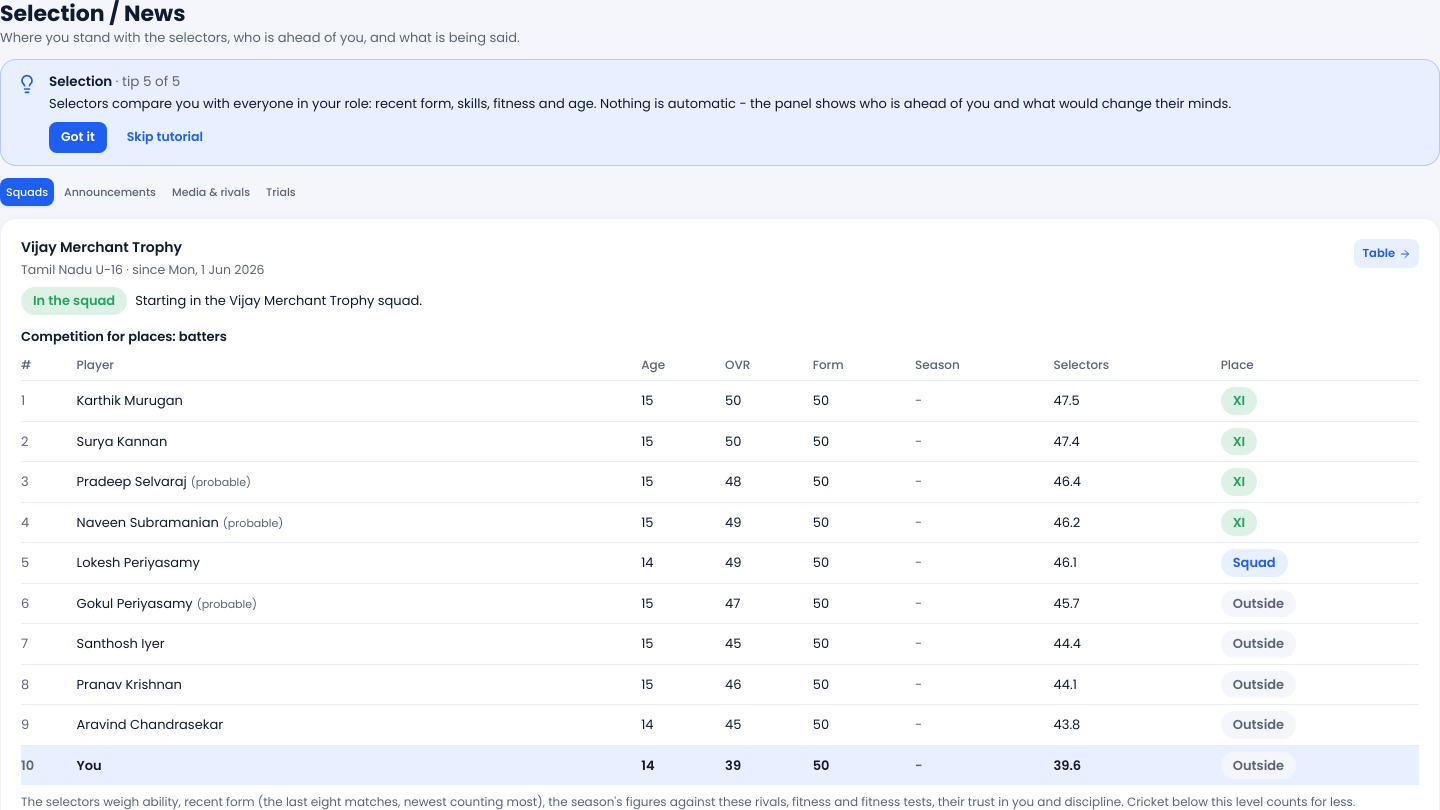
it: Phase 6 screens › Selection / News shows the competition for places with the player in it
Expected: the heading "Competition for places: batters" is shown, [21,327,227,346]
Expected: the text "You" is shown, [76,745,641,785]
Click the tab "Announcements". click: x=110, y=192
box: [58,178,162,206]
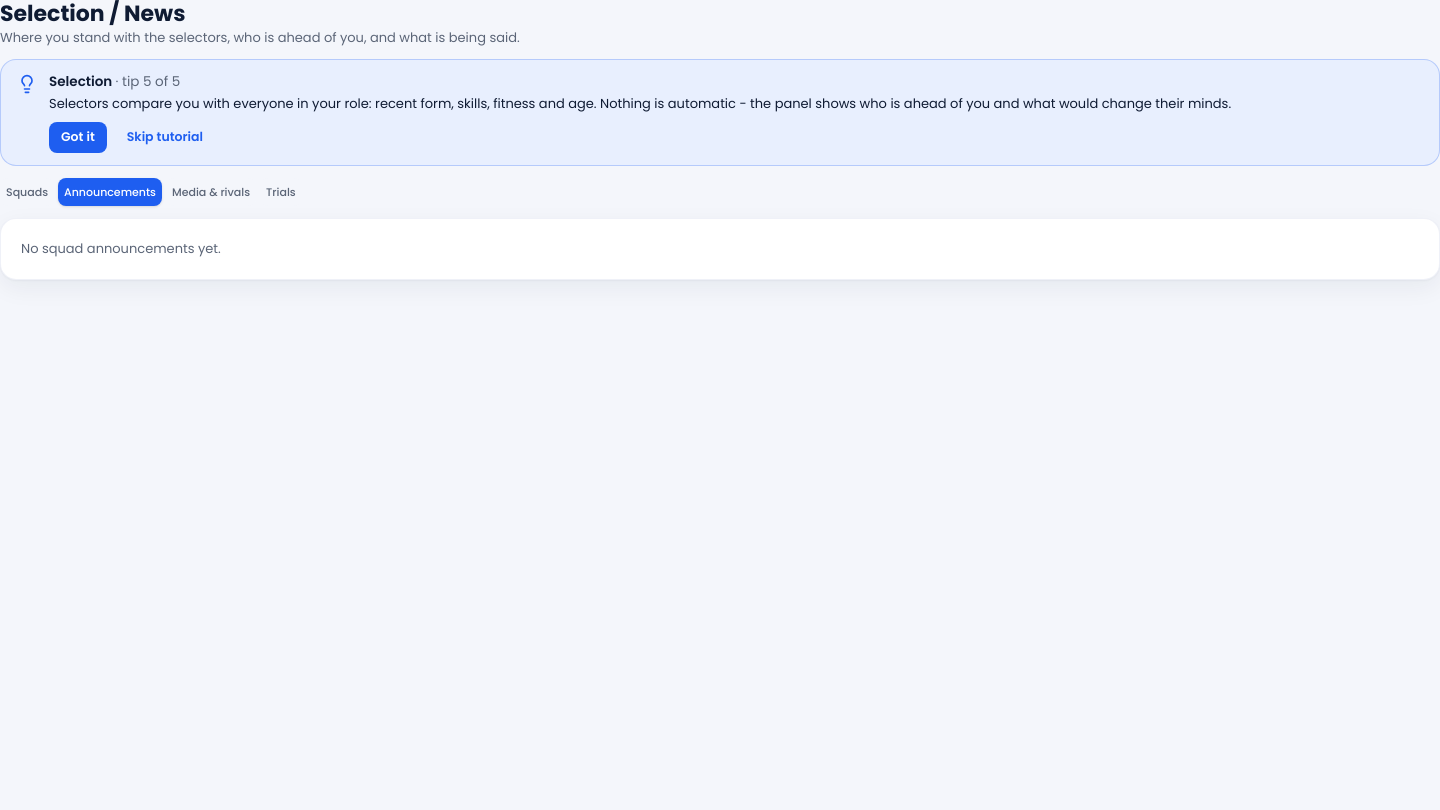
Expected: the text "No squad announcements yet." is shown, [21,239,221,258]
